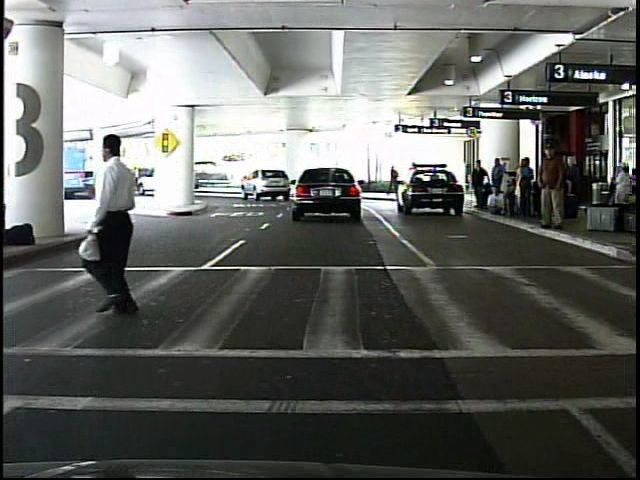person: (66, 126, 182, 314), (534, 142, 570, 234), (470, 159, 489, 211), (387, 164, 401, 197), (129, 164, 141, 190)
